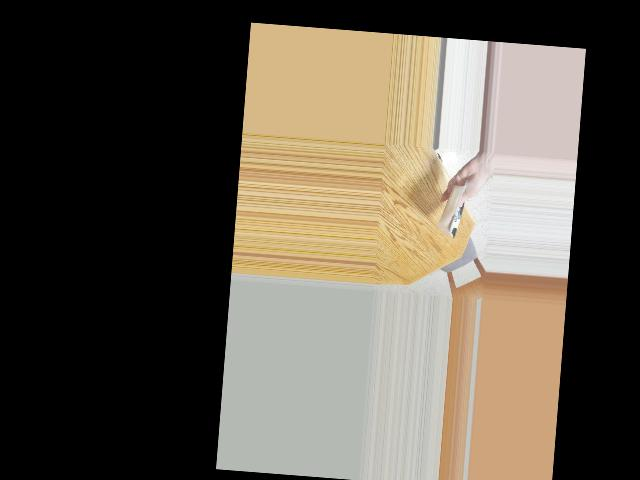cheese: (431, 182, 479, 237)
